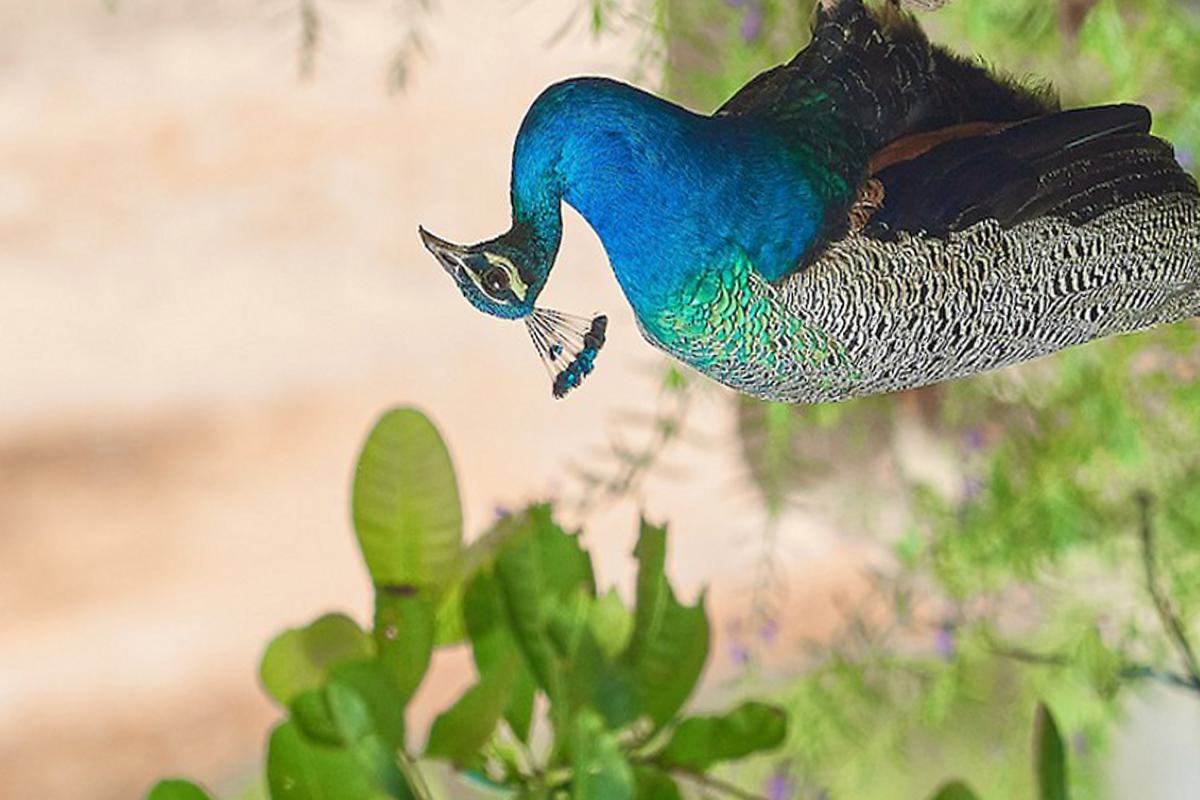peacock: (389, 33, 1194, 432)
